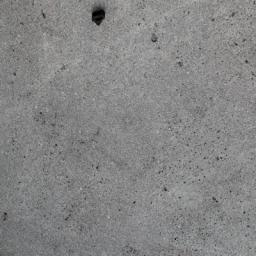FOD: (88, 6, 111, 31)
